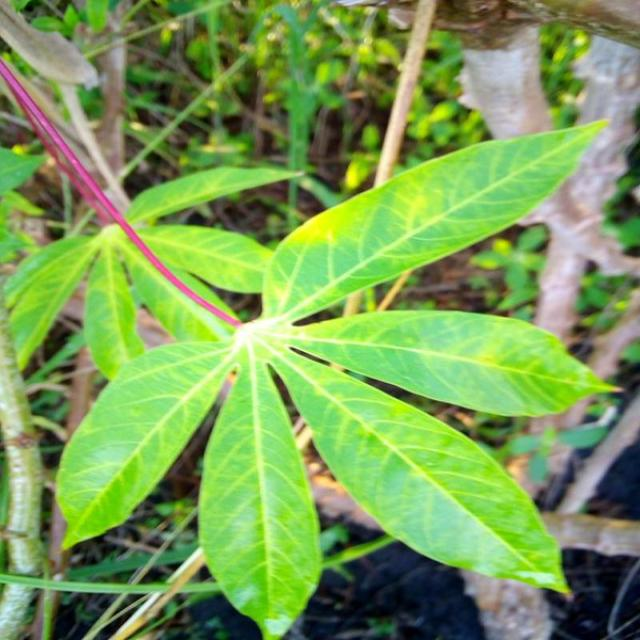cassava leaf: (48, 112, 619, 638), (262, 340, 573, 598), (260, 117, 610, 326), (54, 336, 236, 551), (196, 341, 322, 639)
